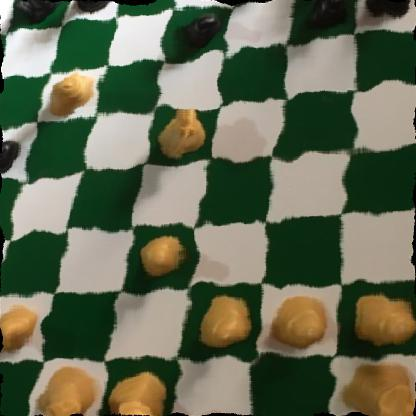black-bishop: (70, 0, 124, 15)
black-king: (2, 0, 66, 31)
black-pawn: (177, 6, 224, 58), (298, 0, 347, 40), (0, 130, 30, 179), (363, 0, 416, 21)
white-king: (94, 370, 172, 416)
white-knight: (154, 97, 213, 162)
white-pawn: (347, 291, 415, 348), (264, 295, 333, 350), (193, 294, 256, 353), (133, 232, 190, 285), (0, 299, 48, 352)
white-queen: (39, 66, 106, 116)
white-rook: (334, 353, 416, 416), (27, 371, 102, 416)
